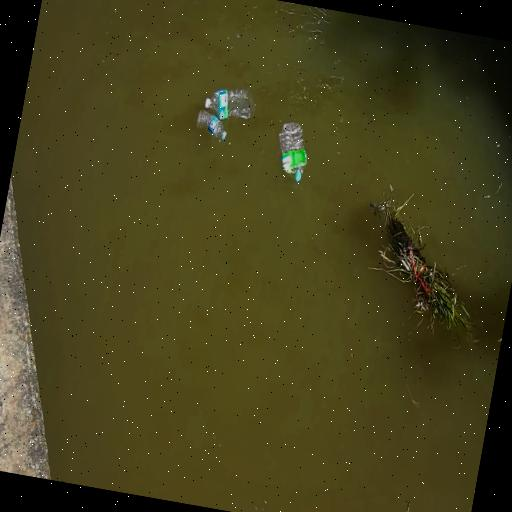plastic: (278, 122, 306, 181), (204, 89, 254, 119), (196, 110, 225, 140)
twig: (371, 195, 470, 333)
